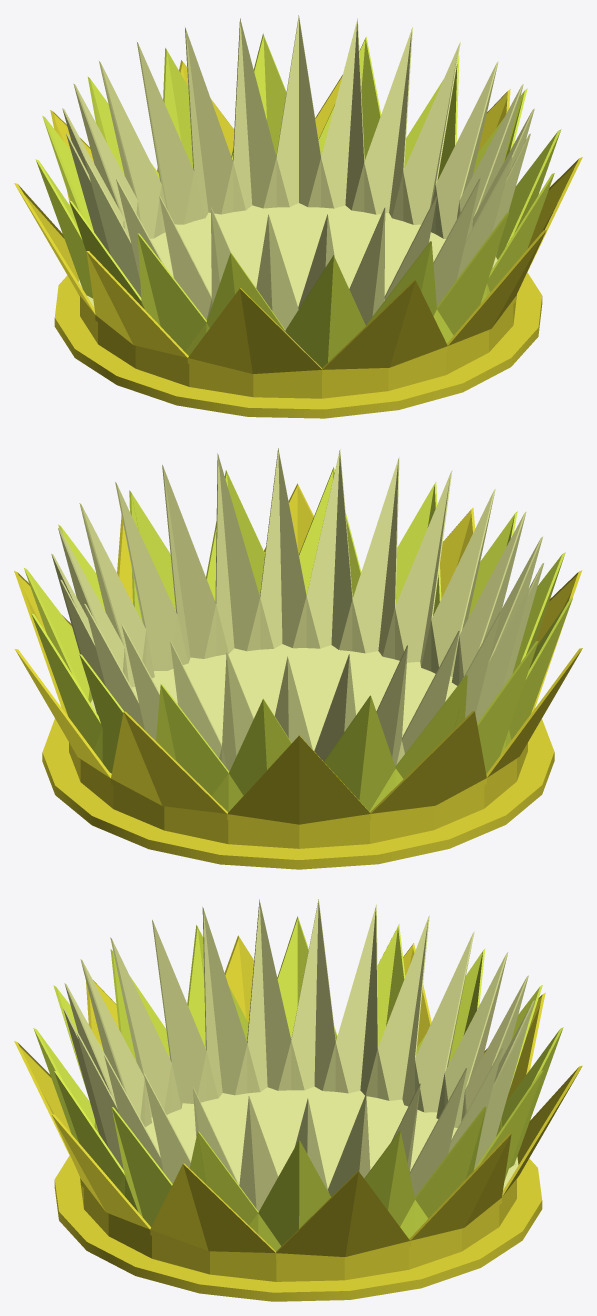
The model's file is portal_000020.obj.
The picture shows the model from 3 angles, top to bottom: view 1: azimuth 30°, elevation 25°; view 2: azimuth 150°, elevation 25°; view 3: azimuth 270°, elevation 25°; orthographic projection. The views are drawn at different scales.
Parts seen in each view (by area): view 1: Cylinder.001, pCylinder1, Cylinder; view 2: Cylinder.001, pCylinder1, Cylinder; view 3: Cylinder.001, pCylinder1, Cylinder.
Boxes of the visible parts, x1,y1,x2,y2 form: Cylinder.001: (62, 15, 534, 329); pCylinder1: (14, 60, 582, 418); Cylinder: (35, 33, 561, 367); Cylinder.001: (51, 448, 543, 771); pCylinder1: (14, 483, 582, 869); Cylinder: (24, 467, 572, 812); Cylinder.001: (63, 899, 534, 1211); pCylinder1: (14, 935, 582, 1301); Cylinder: (33, 916, 563, 1251).
Size of the model in its own units: 7.28 by 2.9 by 7.41.
Materials: 3 (3 with a texture image).
